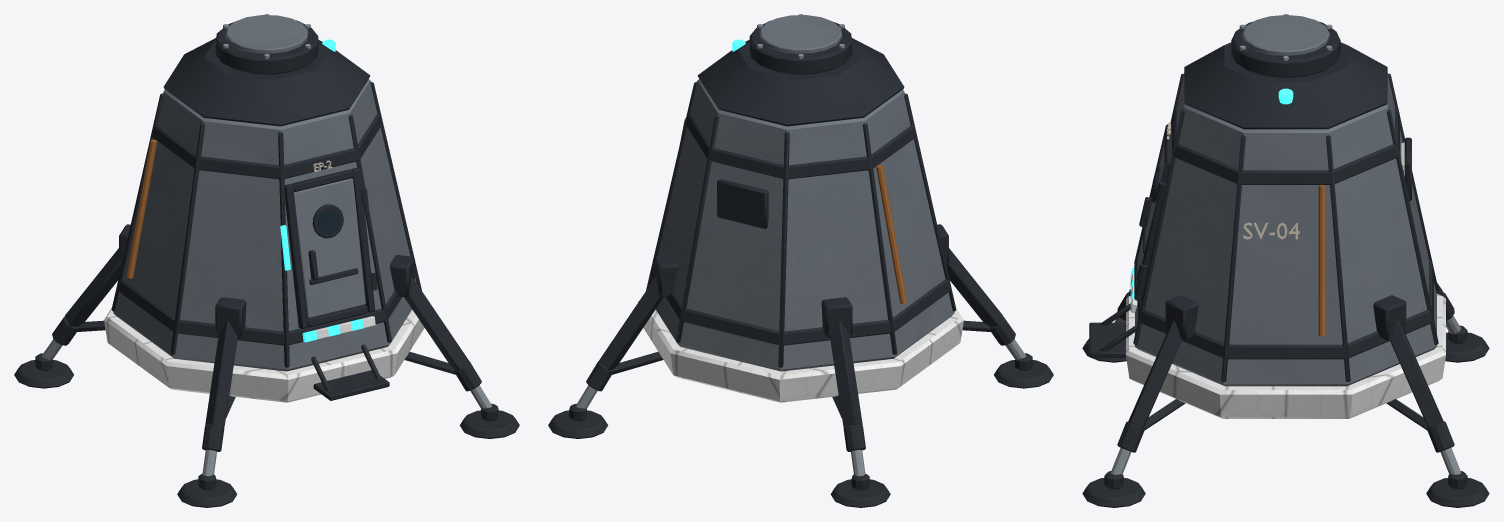
The model's file is escape_pod.glb.
3 renders of one model, left to right at view 1: azimuth 30°, elevation 25°; view 2: azimuth 150°, elevation 25°; view 3: azimuth 270°, elevation 25°, orthographic. The views are drawn at different scales.
Visible parts, largest first — view 1: escape_pod; view 2: escape_pod; view 3: escape_pod.
Boxes of the visible parts, x1=… form: escape_pod: x1=14, y1=14, x2=519, y2=507; escape_pod: x1=548, y1=14, x2=1053, y2=507; escape_pod: x1=1082, y1=14, x2=1489, y2=507.
Size of the model in its own units: 3.35 by 3.54 by 3.35.
11 materials, 8 textured.
